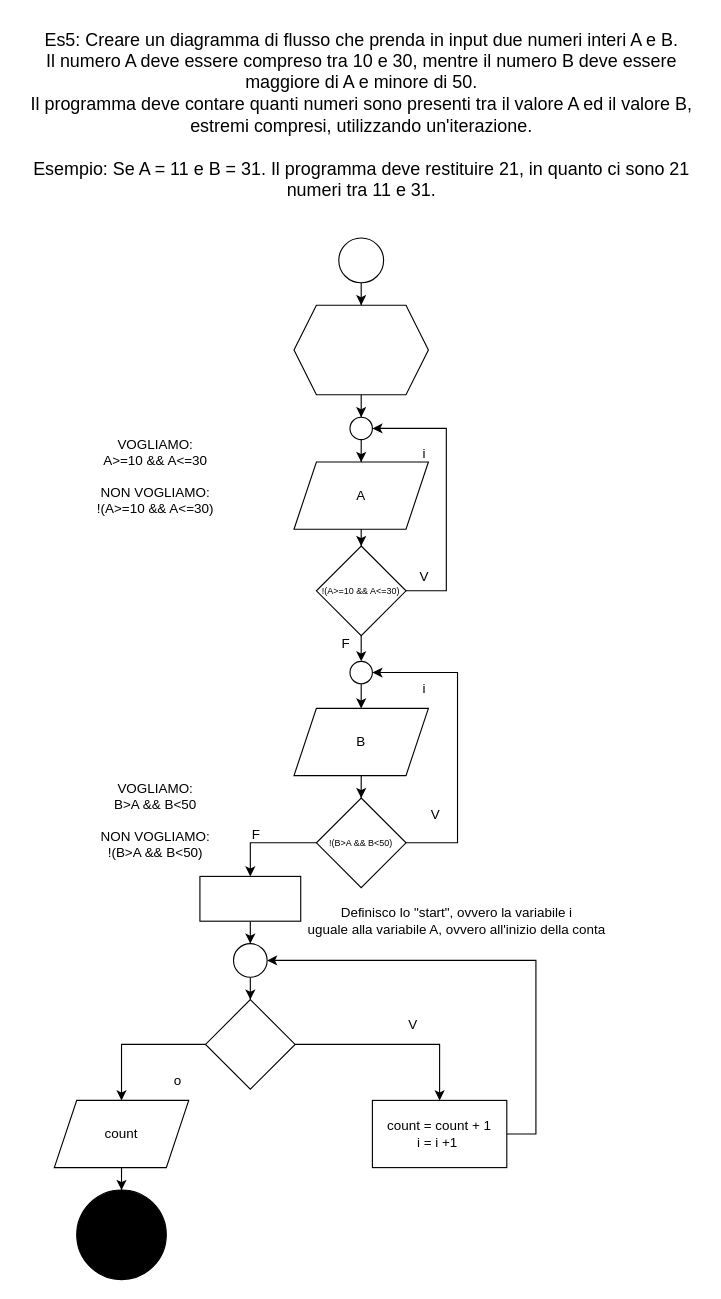
The diagram is 721 pixels wide and 1299 high, and some of its shapes have lost their labels. Here are the shapes that lost their labels. From the top down, the centre of each, then its label:
At (x=360, y=349): "A, B, count = 0, i".
At (x=250, y=898): "i = A".
At (x=249, y=1043): "i <= B".
